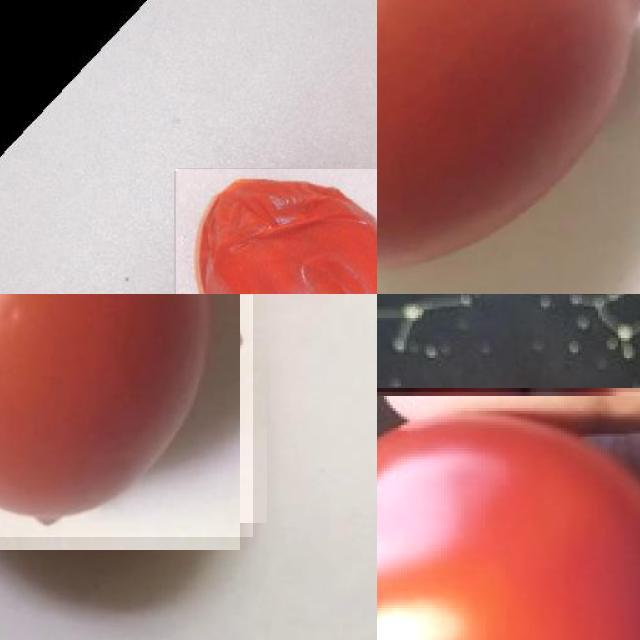Fresh Tomato: (377, 0, 640, 294), (377, 392, 640, 640), (0, 294, 253, 536)
Rotten Tomato: (176, 169, 377, 294)
